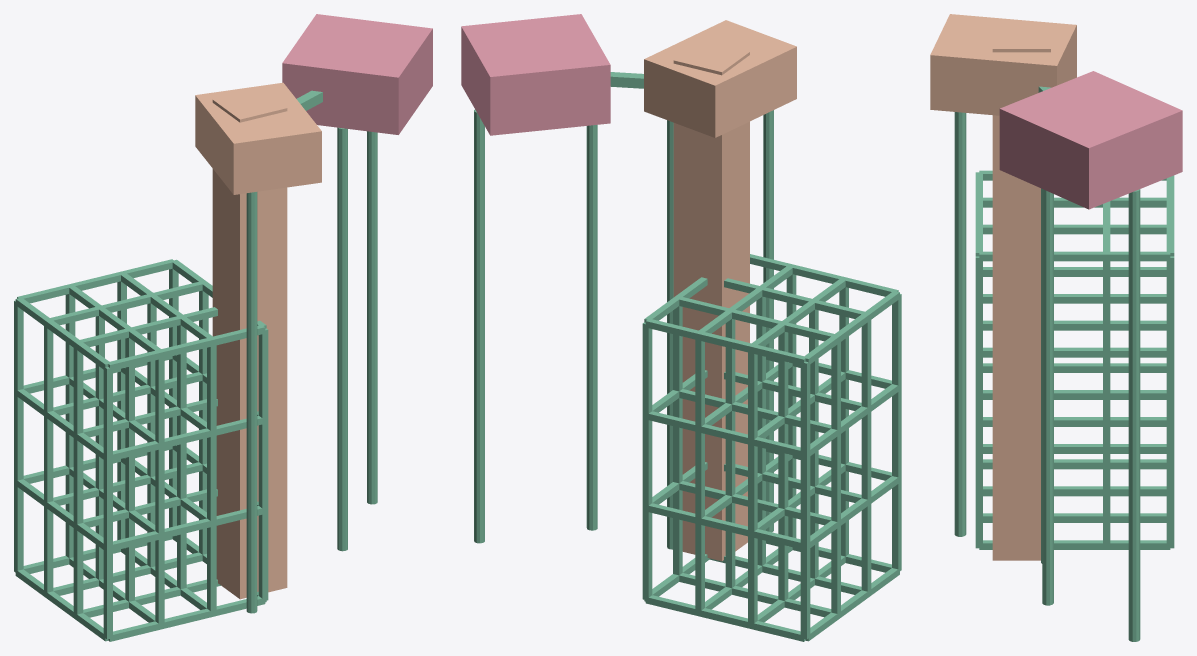
The model's file is folie_tag_036.glb.
3 views of the same model, side by side, from view 1: azimuth 30°, elevation 25°; view 2: azimuth 150°, elevation 25°; view 3: azimuth 270°, elevation 25° (orthographic). The views are drawn at different scales.
Parts seen in each view (by area): view 1: folie_tag_036_00_cage, folie_tag_036_core, folie_tag_036_line, folie_tag_036_01_block, folie_tag_036_02_block; view 2: folie_tag_036_00_cage, folie_tag_036_core, folie_tag_036_01_block, folie_tag_036_line, folie_tag_036_02_block; view 3: folie_tag_036_00_cage, folie_tag_036_core, folie_tag_036_01_block, folie_tag_036_line, folie_tag_036_02_block.
Part boxes in pixels (bbox=[...]): folie_tag_036_00_cage: bbox=[14, 259, 268, 641]; folie_tag_036_core: bbox=[212, 88, 287, 599]; folie_tag_036_line: bbox=[246, 90, 377, 613]; folie_tag_036_01_block: bbox=[282, 14, 432, 134]; folie_tag_036_02_block: bbox=[195, 82, 321, 194]; folie_tag_036_00_cage: bbox=[642, 254, 901, 641]; folie_tag_036_core: bbox=[673, 40, 749, 561]; folie_tag_036_01_block: bbox=[461, 14, 610, 135]; folie_tag_036_line: bbox=[474, 72, 773, 549]; folie_tag_036_02_block: bbox=[644, 20, 796, 137]; folie_tag_036_00_cage: bbox=[975, 170, 1174, 549]; folie_tag_036_core: bbox=[992, 24, 1050, 560]; folie_tag_036_01_block: bbox=[999, 71, 1182, 209]; folie_tag_036_line: bbox=[954, 86, 1140, 641]; folie_tag_036_02_block: bbox=[930, 14, 1076, 115].
Size of the model in its own units: 8.79 by 10.71 by 4.76.
